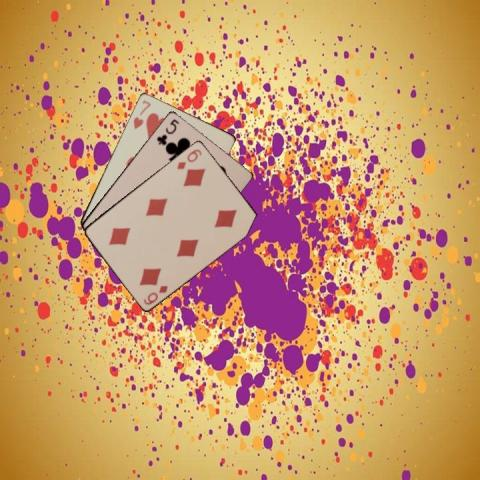5c: (153, 116, 181, 146)
6d: (174, 146, 203, 171), (141, 282, 169, 306)
7h: (130, 96, 152, 130)
